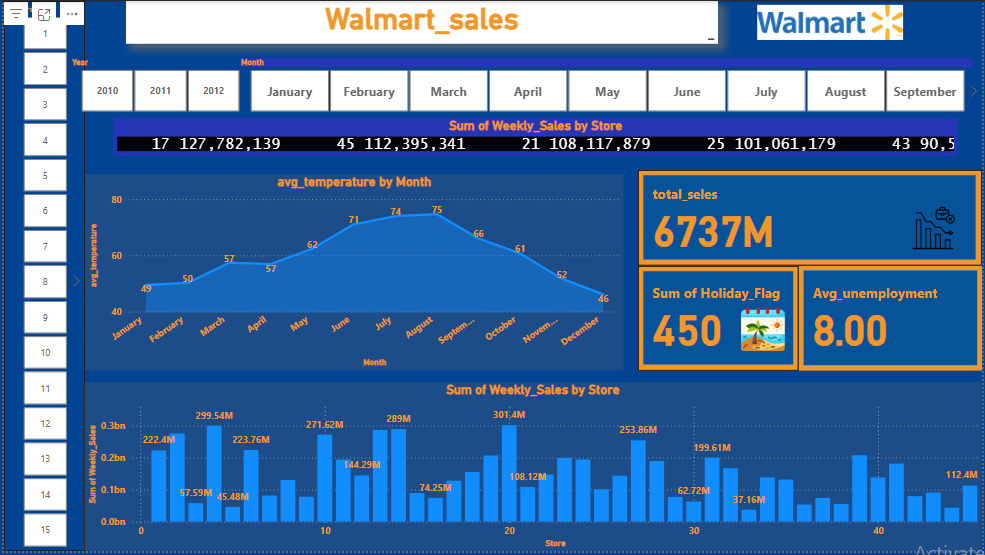

Layout of this report page (visuals, bound fields, positions):
{"tool":"powerbi","page":{"name":"Page 1","canvas":[1280,720],"ordinal":0},"visuals":[{"type":"slicer","fields":{"Values":["Dimention T.Store"]},"box":[0,0,105.8,720.6],"z":0},{"type":"slicer","fields":{"Values":["Walmart_Sales.Date.Variation.Date Hierarchy.Year"]},"box":[76.3,69.1,256.3,82.1],"z":1000},{"type":"cardVisual","fields":{"Data":["Dimention T.total_seles"]},"box":[830.2,221.9,449.6,124.9],"z":2000},{"type":"slicer","fields":{"Values":["Walmart_Sales.Date.Variation.Date Hierarchy.Month"]},"box":[296.6,69.1,983.5,82.1],"z":3000},{"type":"clusteredColumnChart","fields":{"Category":["Dimention T.Store"],"Y":["Sum(Walmart_Sales.Weekly_Sales)"]},"box":[105.1,498.2,1175,221.8],"z":4000},{"type":"cardVisual","fields":{"Data":["Sum(Walmart_Sales.Holiday_Flag)"]},"box":[830.5,347.2,210.1,136.7],"z":5000},{"type":"lineChart","fields":{"Category":["Walmart_Sales2.Date.Variation.Date Hierarchy.Month"],"Y":["Dimention T.avg_temperature"]},"box":[105.8,226.3,705.3,257.1],"z":6000},{"type":"textbox","title":"Walmart_sales","box":[159.8,0,774.7,56.2],"z":7000},{"type":"image","box":[936.3,0,291.4,55.7],"z":8000},{"type":"image","box":[1178.4,395.3,70.5,64.7],"z":9000,"group":"g1"},{"type":"image","box":[956.6,395.3,72,69.1],"z":10000},{"type":"image","box":[1178.4,263,77.9,67.6],"z":11000},{"type":"ScrollingTextVisual1448795304508","fields":{"Measure Absolute":["Sum(Walmart_Sales.Weekly_Sales)"],"Category":["Dimention T.Store"]},"box":[142.5,152.8,1106.4,48.9],"z":12000},{"type":"cardVisual","fields":{"Data":["Dimention T.Avg_unemployment"]},"box":[1040.3,346.8,239.5,136.7],"z":13000,"group":"g1"},{"type":"group","id":"g1","title":"Group 1","box":[1040.3,346.8,239.5,136.7],"z":13001}]}

Visuals, with their boxes on the page's 1280x720 design canvas (x1, y1, x2, y2). These are canvas units, not pixel positions in the 985x555 screenshot, which may show the page scaled, cropped or inside an application window:
slicer - Dimention T.Store: crop(0, 0, 106, 721)
slicer - Walmart_Sales.Date.Variation.Date Hierarchy.Year: crop(76, 69, 333, 151)
cardVisual - Dimention T.total_seles: crop(830, 222, 1280, 347)
slicer - Walmart_Sales.Date.Variation.Date Hierarchy.Month: crop(297, 69, 1280, 151)
clusteredColumnChart - Dimention T.Store x Sum(Walmart_Sales.Weekly_Sales): crop(105, 498, 1280, 720)
cardVisual - Sum(Walmart_Sales.Holiday_Flag): crop(830, 347, 1041, 484)
lineChart - Walmart_Sales2.Date.Variation.Date Hierarchy.Month x Dimention T.avg_temperature: crop(106, 226, 811, 483)
"Walmart_sales" textbox: crop(160, 0, 934, 56)
image: crop(936, 0, 1228, 56)
image: crop(1178, 395, 1249, 460)
image: crop(957, 395, 1029, 464)
image: crop(1178, 263, 1256, 331)
ScrollingTextVisual1448795304508 - Sum(Walmart_Sales.Weekly_Sales) x Dimention T.Store: crop(142, 153, 1249, 202)
cardVisual - Dimention T.Avg_unemployment: crop(1040, 347, 1280, 484)
"Group 1" group: crop(1040, 347, 1280, 484)
